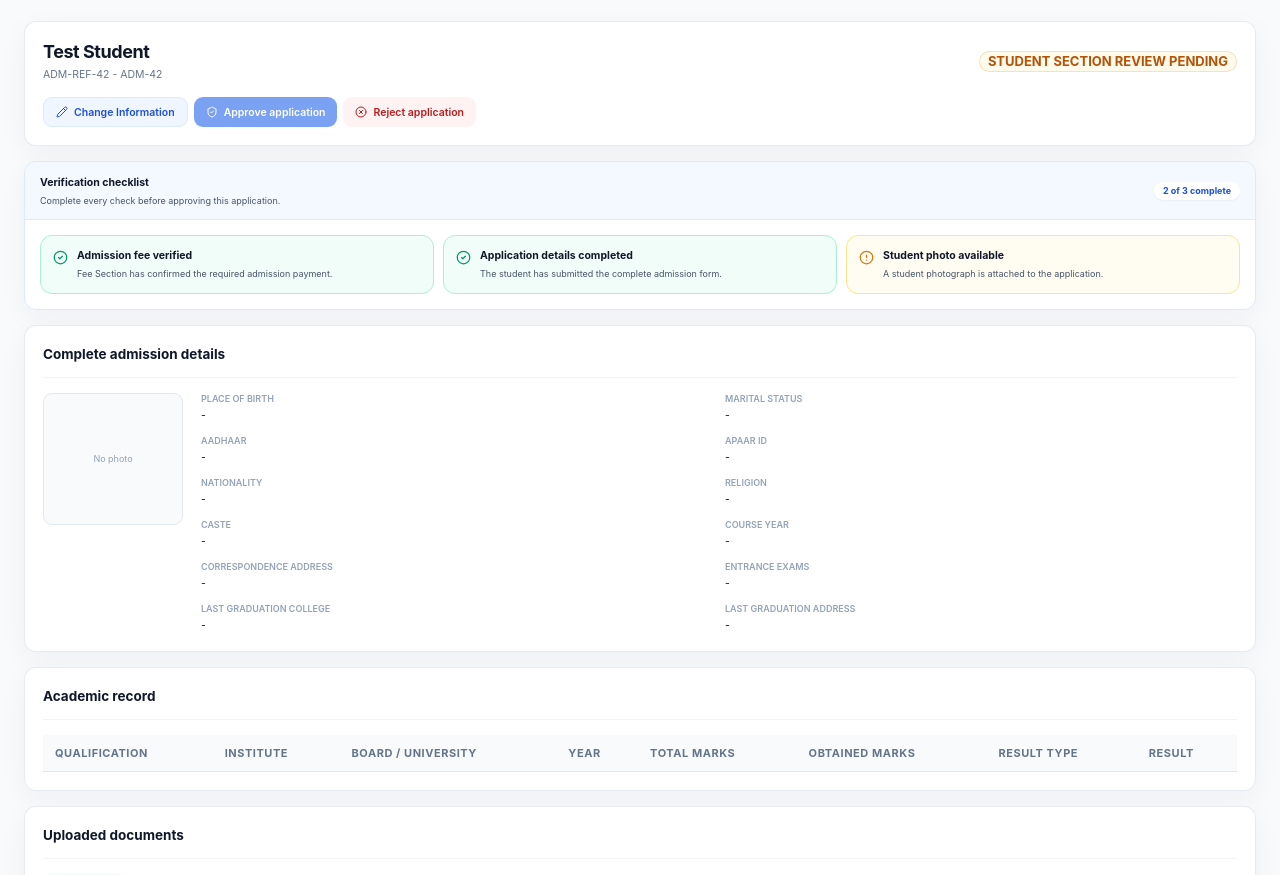
Test case: StudentSectionAdmissionDetailPage › preserves the saved Other category when category loading fails
Click the button "Change Information": {"x": 115, "y": 112} [43,97,188,127]
(page scrolled)
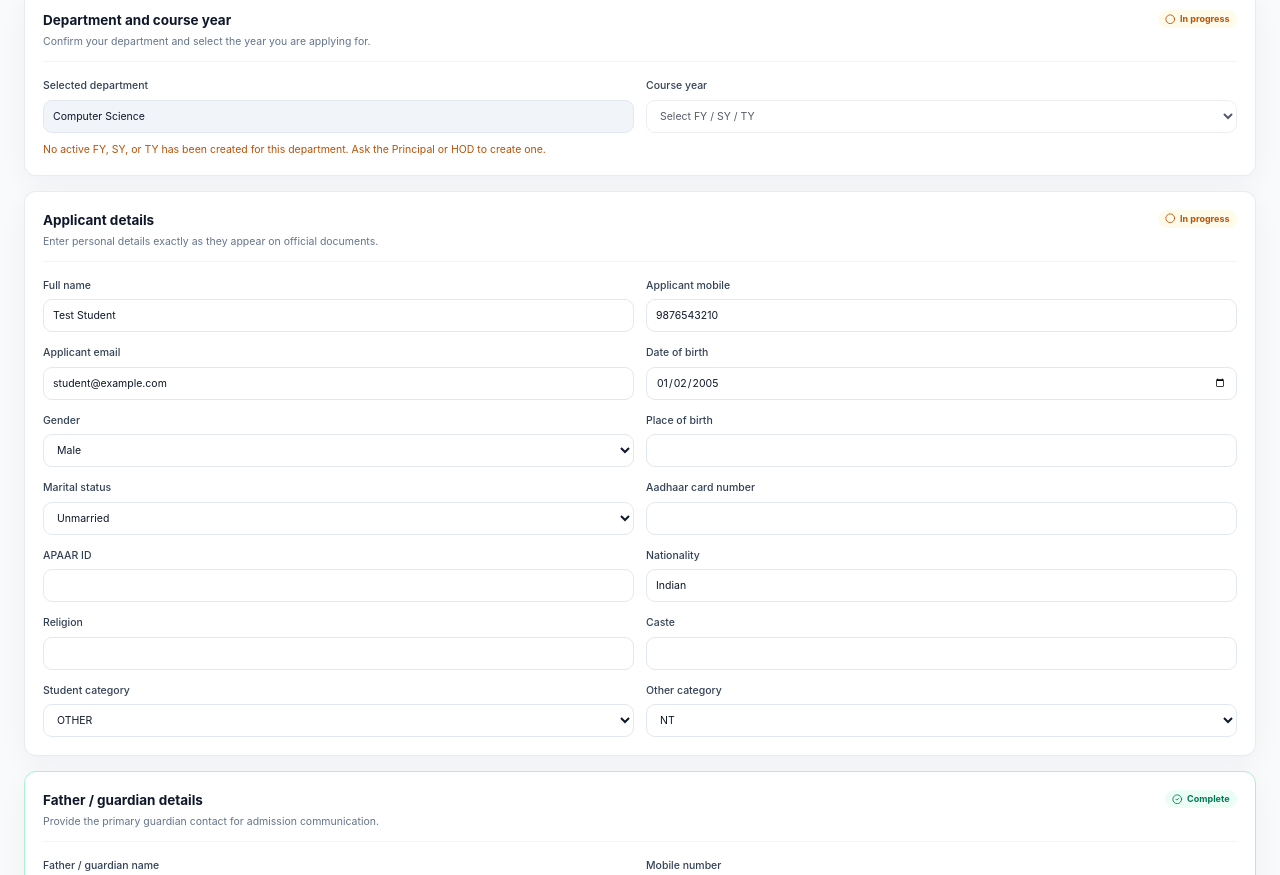
Now the dropdown labelled "Other category" shows "NT", box [646,704,1237,737]
Now the dropdown labelled "Gender" shows "Male", box [43,434,634,467]
